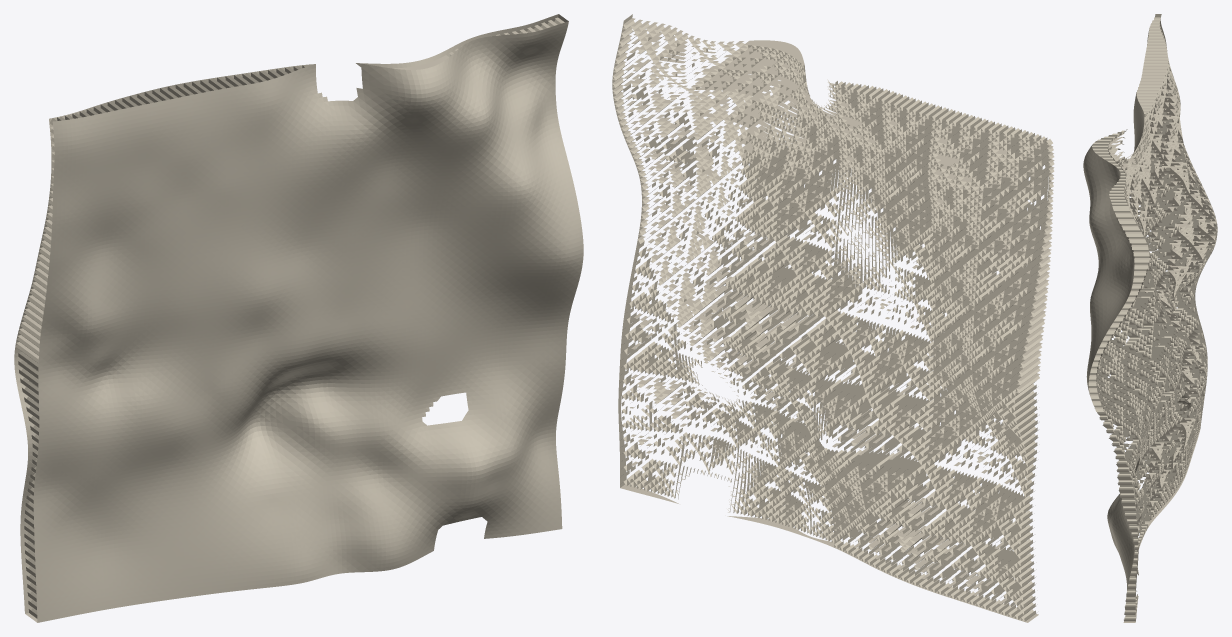
The picture shows the model from 3 angles, left to right: view 1: azimuth 30°, elevation 25°; view 2: azimuth 150°, elevation 25°; view 3: azimuth 270°, elevation 25°; orthographic projection. The views are drawn at different scales.
Visible parts, largest first — view 1: world; view 2: world; view 3: world.
Part boxes in pixels (x1,y1,x2,y2): world: (14, 14, 583, 622); world: (612, 14, 1054, 622); world: (1083, 14, 1217, 622).
Bounding box in the file's own units: 12800 × 12800 × 3751.
